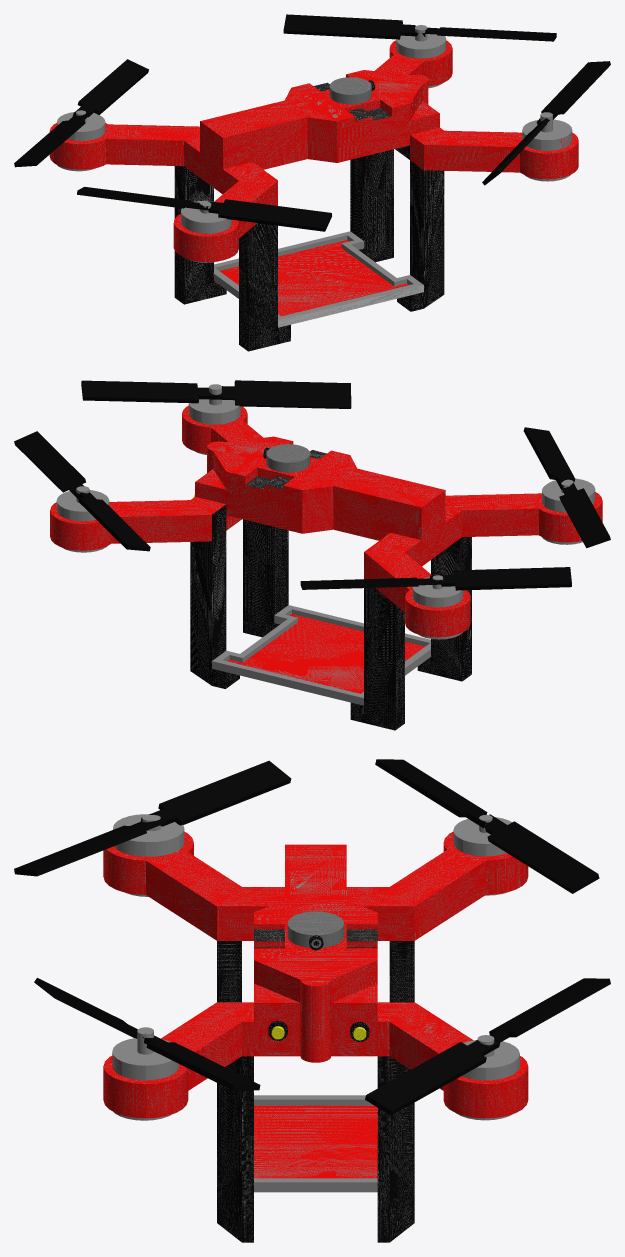
File: drone.dae
3 views of the same model, one above another, from view 1: azimuth 30°, elevation 25°; view 2: azimuth 150°, elevation 25°; view 3: azimuth 270°, elevation 25° (orthographic). The views are drawn at different scales.
Parts seen in each view (by area): view 1: drone (×14), instance_3, instance_2, instance_4, instance_1; view 2: drone (×13), instance_1, instance_4, instance_3, instance_2; view 3: drone (×13), instance_3, instance_2, instance_4, instance_1.
Part boxes in pixels (x1=…): drone (×14): x1=49, y1=34, x2=578, y2=351; instance_3: x1=283, y1=14, x2=556, y2=41; instance_2: x1=77, y1=186, x2=331, y2=231; instance_4: x1=14, y1=59, x2=148, y2=167; instance_1: x1=482, y1=61, x2=610, y2=185; drone (×13): x1=50, y1=399, x2=602, y2=730; instance_1: x1=81, y1=380, x2=351, y2=408; instance_4: x1=300, y1=567, x2=571, y2=590; instance_3: x1=14, y1=431, x2=150, y2=551; instance_2: x1=523, y1=427, x2=610, y2=548; drone (×13): x1=103, y1=814, x2=528, y2=1242; instance_3: x1=365, y1=978, x2=610, y2=1115; instance_2: x1=14, y1=760, x2=291, y2=876; instance_4: x1=375, y1=759, x2=599, y2=893; instance_1: x1=34, y1=978, x2=260, y2=1090.
Size of the model in its own units: 696 by 496 by 253.
